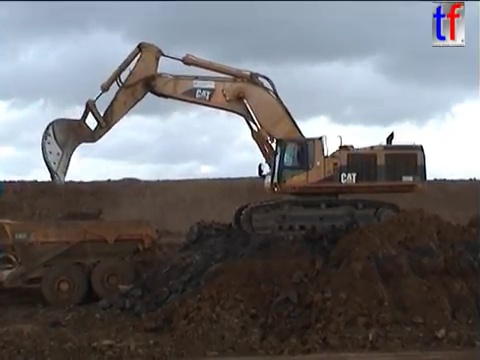excavator: (38, 39, 429, 240)
truck: (1, 215, 160, 308)
